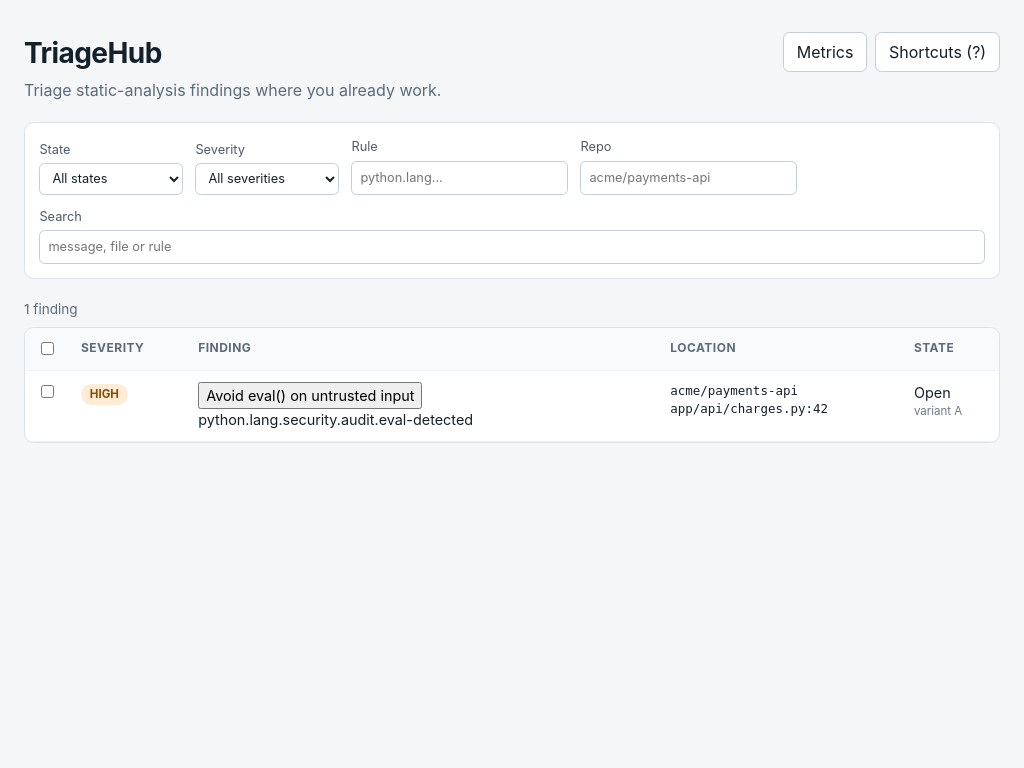
Test: TriageHub console › rolls back an optimistic update when the server returns 500
The image size is (1024, 768).
Click the checkbox named "Select all visible findings": (48, 348) x1=41 y1=342 x2=54 y2=355
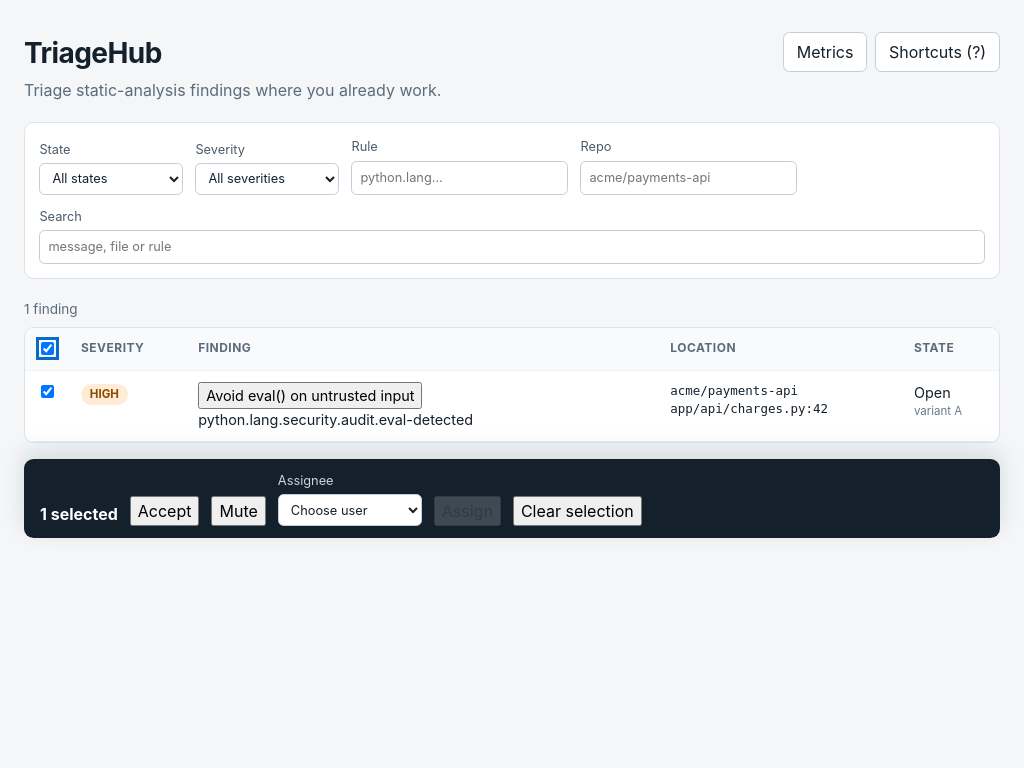
Click the button "Accept": (165, 511) x1=130 y1=496 x2=200 y2=526
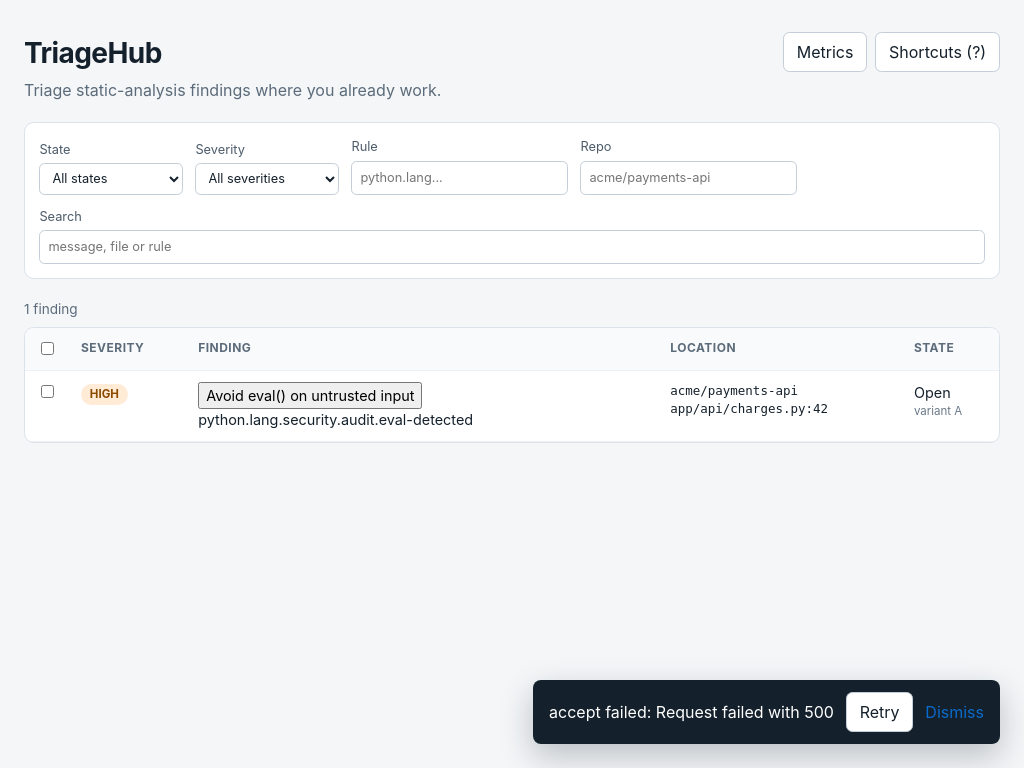
expect the text "open" is shown: met, box x1=914 y1=384 x2=951 y2=401
expect the message with test id "toast" shows "accept failed": met, box x1=549 y1=702 x2=834 y2=722
expect the button "Retry" is shown: met, box x1=846 y1=692 x2=913 y2=732
